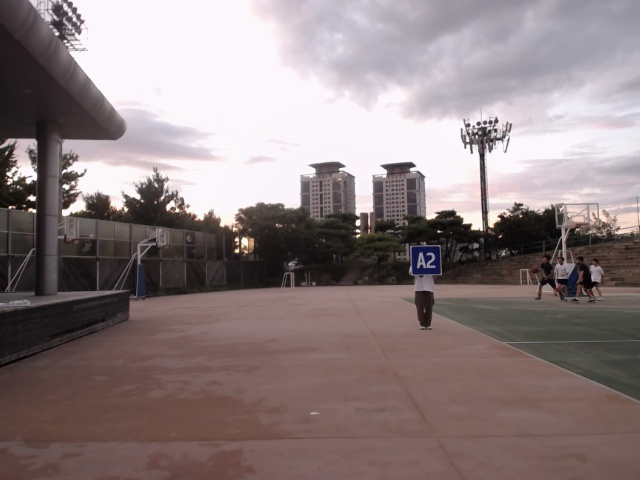delivery_a2: (411, 246, 441, 275)
